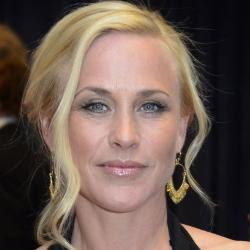face: (8, 1, 220, 239)
